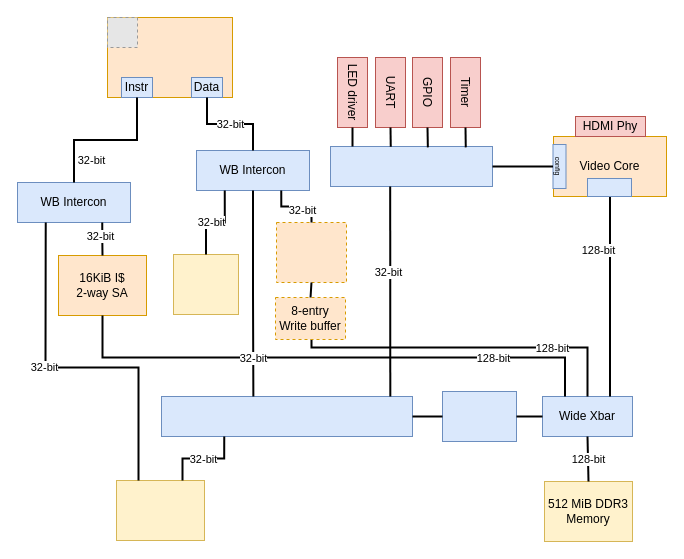
The diagram is 684 pixels wide and 559 high, and some of its shapes have lost their labels. Grey dashed boxes stand in for pictures. Each missing label, with the box of its shape:
16KiB D$ 4-way SA: (276, 222, 346, 282)
32<->128 bus converter: (442, 390, 516, 442)
32KiB Data Memory: (172, 254, 238, 314)
data fetch: (586, 178, 632, 196)
Dual-Port 32KiB Instruction Memory: (116, 480, 204, 540)
Peripheral Xbar: (330, 146, 492, 186)
WB Xbar: (160, 396, 412, 436)
Yarc CPU: (106, 16, 232, 98)
